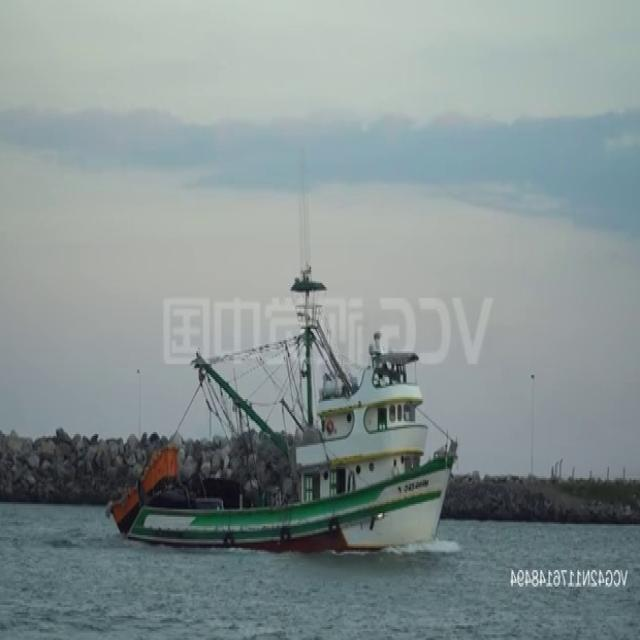fishing boat: (122, 277, 451, 552)
